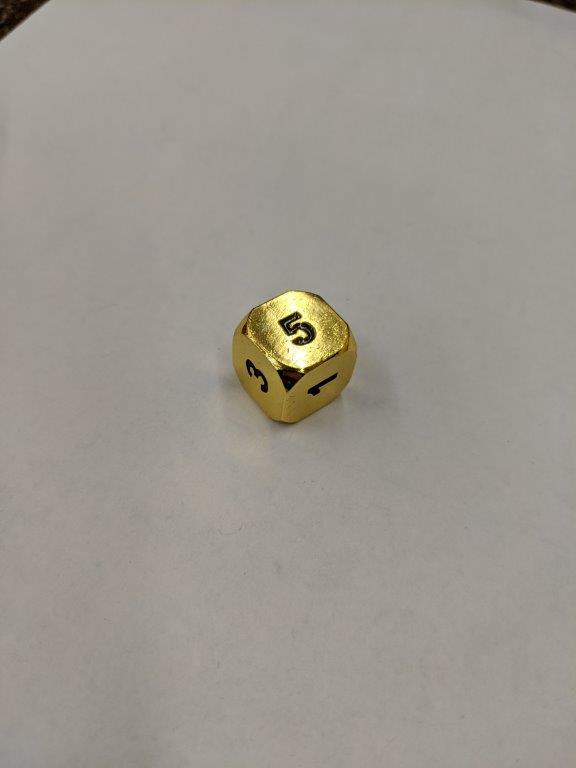d6-5: (232, 288, 360, 427)
